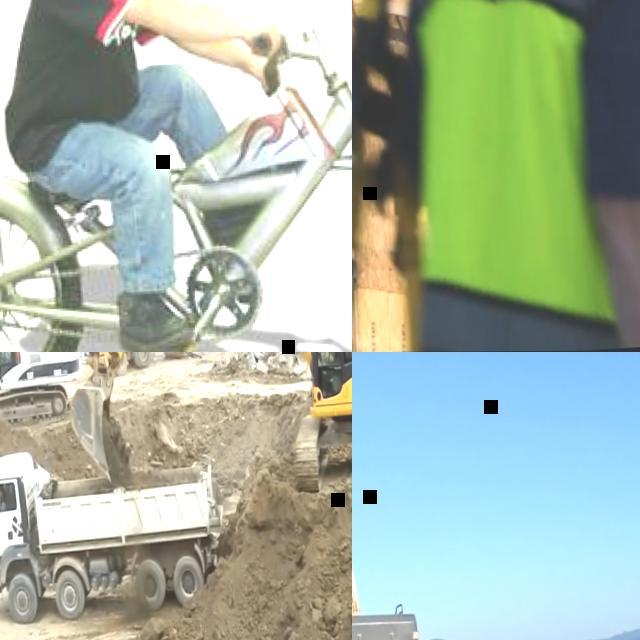vest: (385, 0, 640, 352)
